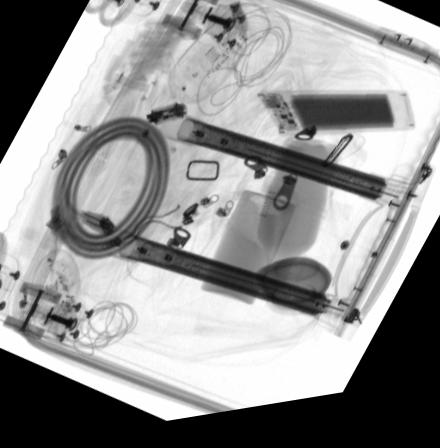Powerbank: (253, 97, 413, 144)
